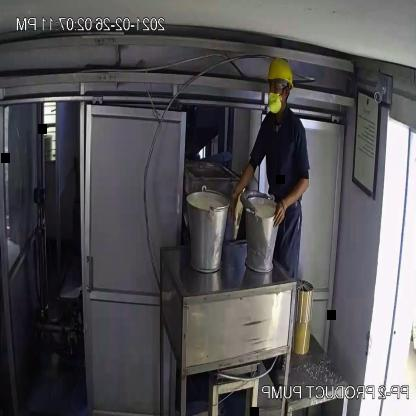helmet: (262, 51, 298, 94)
